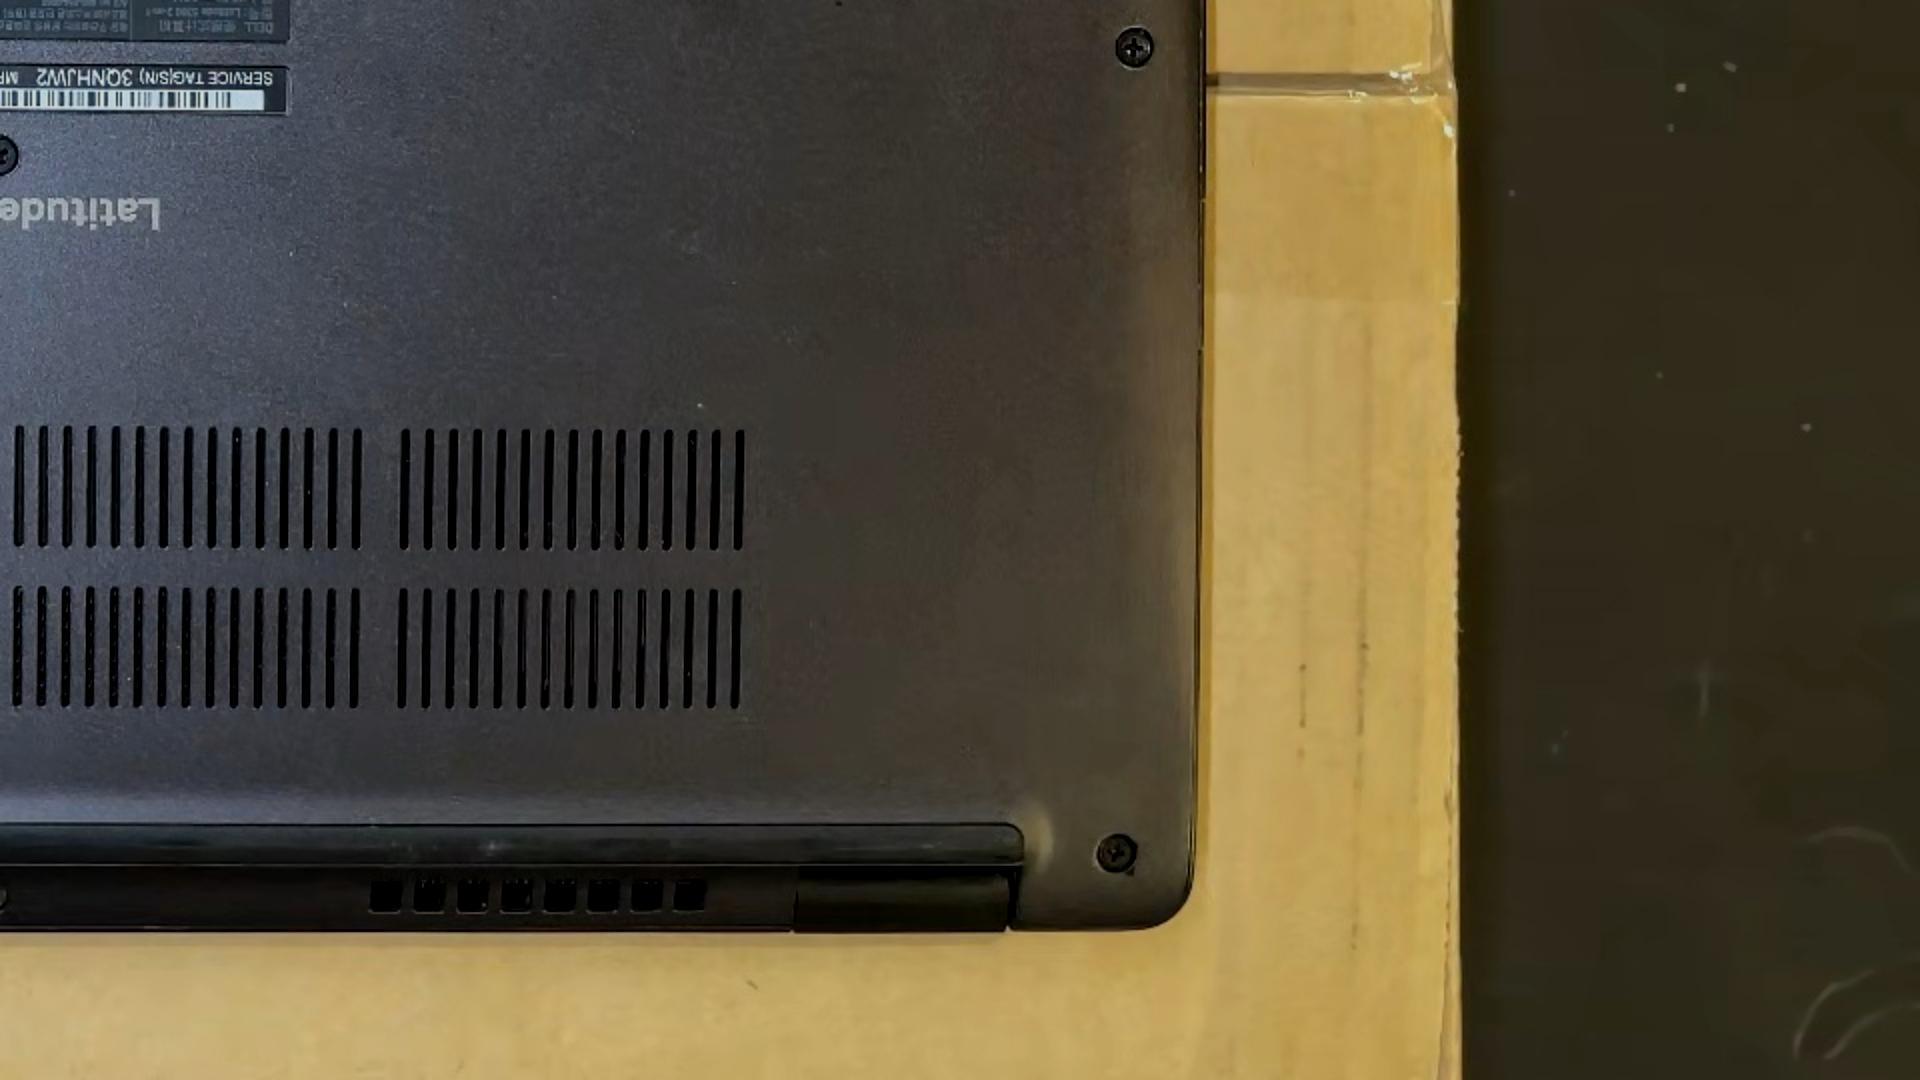chip: (691, 398, 711, 414)
